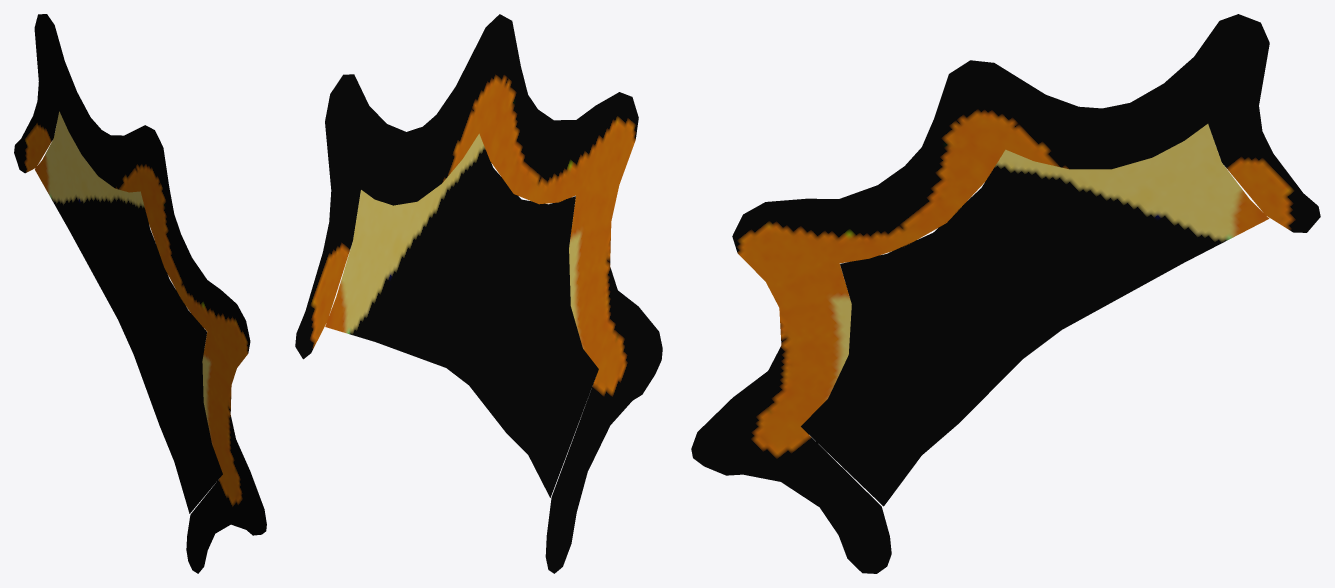
The model's file is bikkuri.obj.
3 views of the same model, side by side, from view 1: azimuth 30°, elevation 25°; view 2: azimuth 150°, elevation 25°; view 3: azimuth 270°, elevation 25° (orthographic). The views are drawn at different scales.
Visible parts, largest first — view 1: Curve.002; view 2: Curve.002; view 3: Curve.002.
Part boxes in pixels (bbox=[...]): Curve.002: bbox=[14, 14, 266, 573]; Curve.002: bbox=[295, 14, 662, 573]; Curve.002: bbox=[691, 14, 1320, 573].
Bounding box in the file's own units: 0 × 1.26 × 1.29.
Materials: 1 (1 with a texture image).
